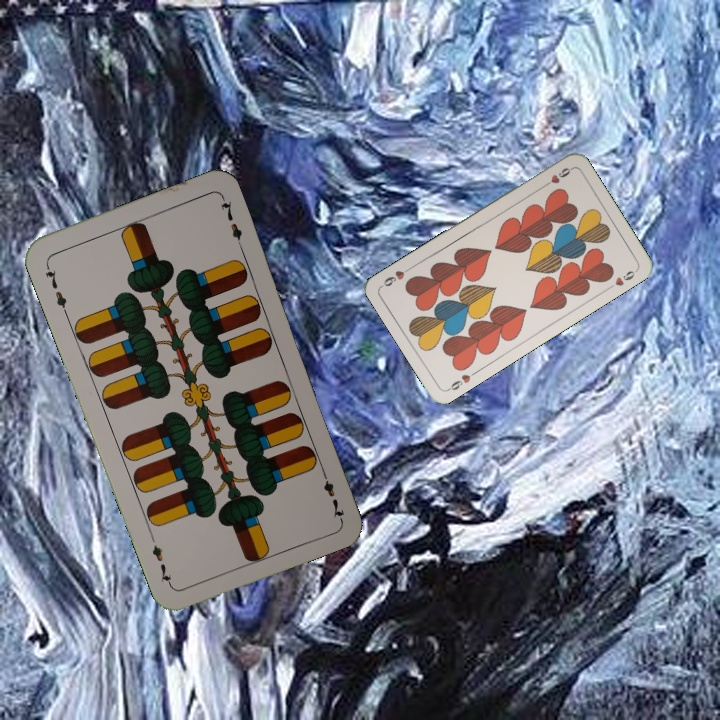E7: (317, 464, 347, 522), (41, 259, 70, 317)
H9: (538, 163, 575, 190), (443, 367, 480, 394)
